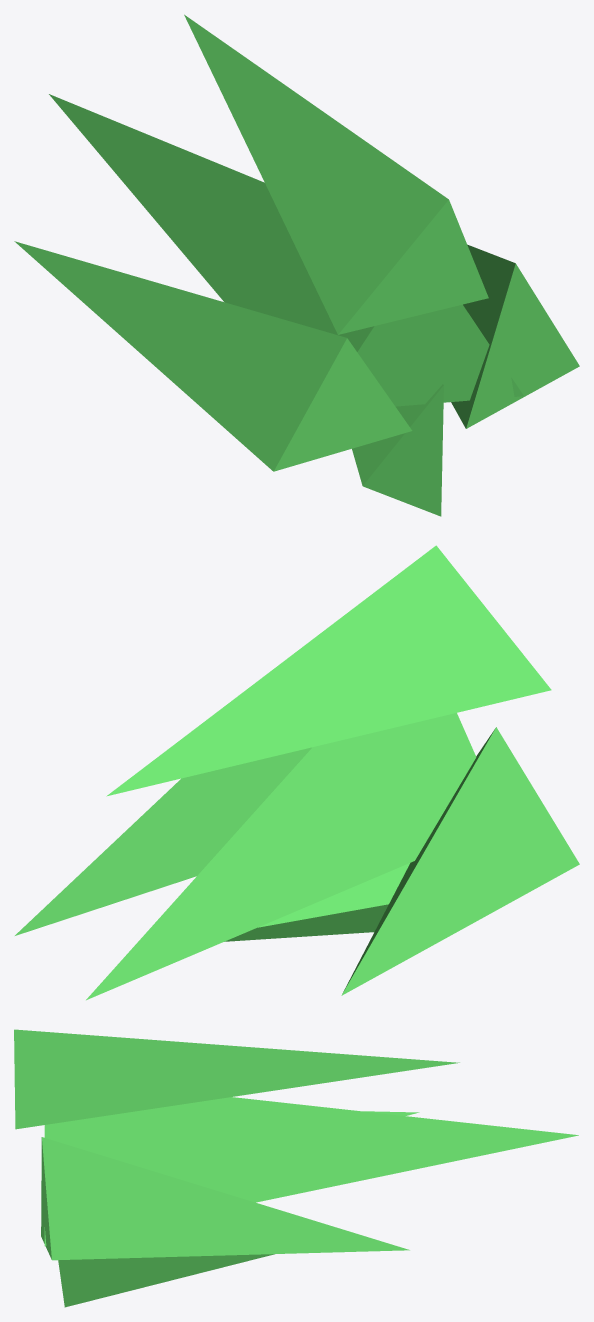
Rendered from grass.fbx.
The picture shows the model from 3 angles, top to bottom: view 1: azimuth 30°, elevation 25°; view 2: azimuth 150°, elevation 25°; view 3: azimuth 270°, elevation 25°; orthographic projection. The views are drawn at different scales.
Parts seen in each view (by area): view 1: Grass; view 2: Grass; view 3: Grass.
Part boxes in pixels (<box>): Grass: <box>14,14,579,516</box>; Grass: <box>15,545,579,1000</box>; Grass: <box>14,1029,578,1307</box>.
Size of the model in its own units: 218 by 221 by 422.
